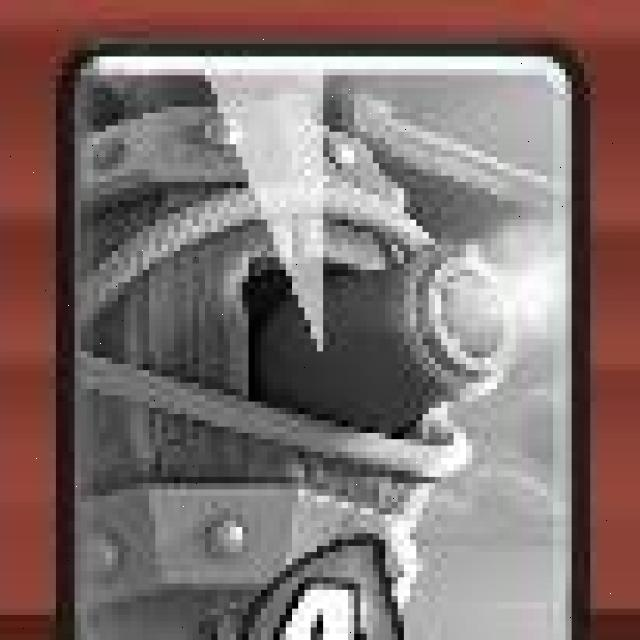Flying_Machine: (55, 43, 589, 640)
